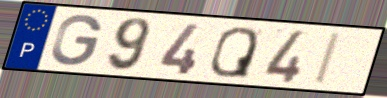4: (155, 20, 201, 77), (264, 28, 305, 84)
9: (103, 16, 156, 73)
G: (49, 13, 105, 68)
I: (311, 31, 345, 87)
Q: (207, 25, 261, 80)
